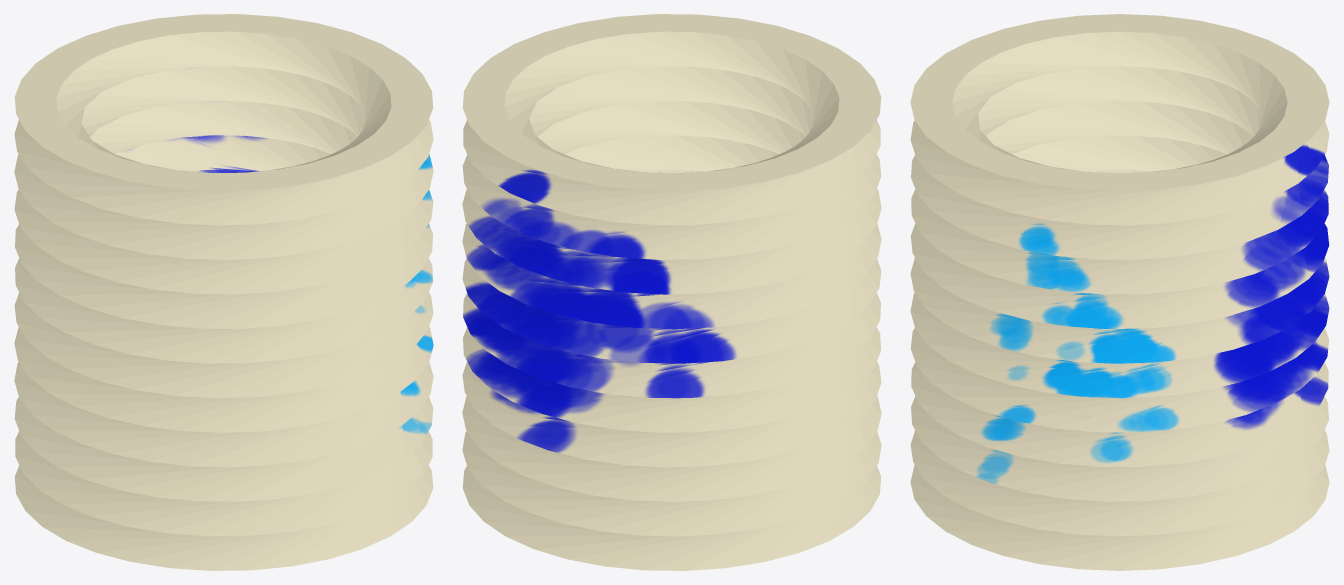
Rendered from vase2.obj.
3 views of the same model, side by side, from view 1: azimuth 30°, elevation 25°; view 2: azimuth 150°, elevation 25°; view 3: azimuth 270°, elevation 25° (orthographic).
Bounding box in the file's own units: 2 × 2 × 2.
